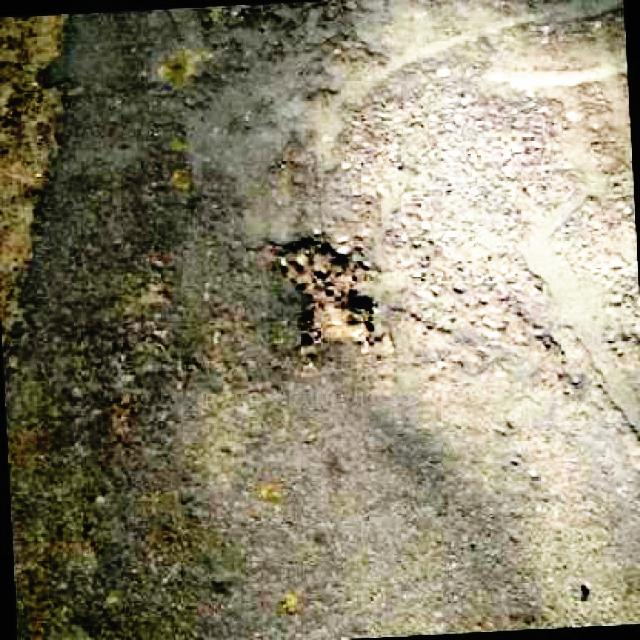pothole: (271, 229, 380, 354)
